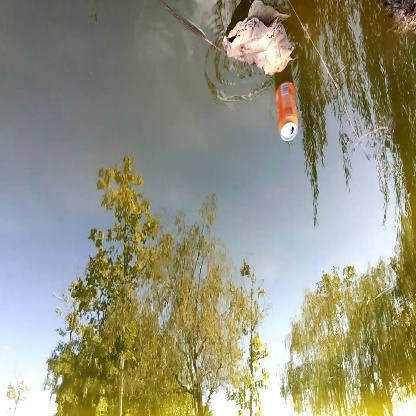bottle: (272, 81, 304, 144)
leaf: (211, 8, 301, 78)
